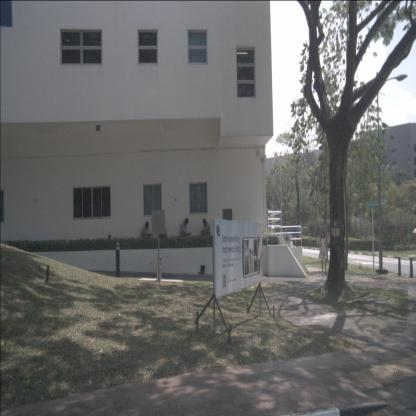human-pedestrian-adult: (318, 229, 328, 276), (180, 218, 191, 247), (140, 221, 151, 248), (199, 218, 211, 242)
